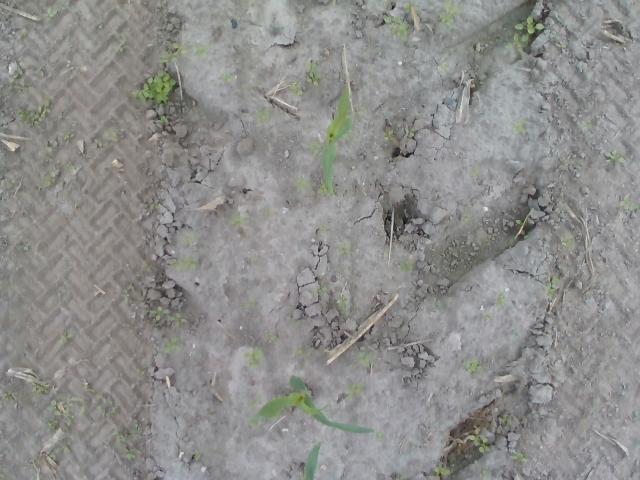Maize: (248, 373, 378, 435), (320, 78, 354, 196), (302, 439, 324, 480)
Weeds: (500, 15, 546, 54), (130, 67, 176, 105), (16, 96, 56, 128), (8, 64, 46, 92), (46, 130, 74, 160), (46, 397, 88, 416), (436, 0, 465, 26), (382, 13, 408, 41), (160, 40, 187, 65), (243, 344, 265, 370), (351, 349, 376, 370), (467, 433, 491, 454), (170, 256, 201, 272), (304, 59, 320, 87), (162, 334, 184, 354), (255, 104, 274, 124), (544, 274, 560, 297), (511, 115, 529, 135), (102, 126, 122, 144), (288, 81, 310, 97), (344, 382, 366, 398), (148, 304, 170, 320), (338, 291, 350, 319), (463, 357, 481, 375), (606, 150, 626, 166), (176, 231, 198, 245), (619, 196, 640, 210), (402, 0, 420, 16), (170, 311, 187, 327), (402, 126, 418, 143), (303, 142, 322, 156), (230, 212, 250, 225), (294, 176, 311, 191), (192, 44, 210, 58), (398, 259, 417, 272), (48, 446, 72, 456), (247, 390, 263, 405), (112, 428, 126, 445), (32, 380, 50, 393), (14, 240, 32, 253), (115, 30, 127, 49), (432, 464, 450, 476), (124, 447, 137, 463), (241, 296, 257, 309), (511, 452, 528, 464), (40, 174, 54, 188), (474, 73, 486, 89), (336, 242, 350, 255), (310, 286, 328, 296), (220, 71, 236, 82), (48, 416, 59, 432), (560, 237, 574, 249), (432, 296, 444, 310), (120, 288, 130, 304), (382, 129, 394, 142), (498, 414, 512, 425), (46, 6, 58, 18), (132, 422, 144, 434), (62, 331, 74, 343), (264, 329, 274, 343), (494, 294, 506, 305), (460, 212, 471, 224), (374, 430, 385, 442), (2, 390, 14, 401), (318, 182, 328, 195), (342, 132, 353, 143), (478, 468, 488, 480), (294, 344, 306, 354), (582, 120, 593, 130), (158, 114, 169, 124), (472, 166, 482, 176), (483, 312, 492, 322), (193, 450, 200, 462), (558, 40, 567, 49), (150, 201, 160, 209), (136, 368, 146, 376), (442, 62, 449, 72), (319, 223, 327, 231), (515, 219, 524, 226)
